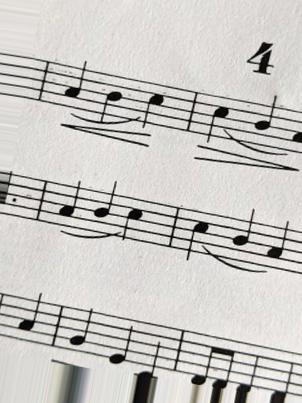note: (63, 303, 99, 362), (227, 206, 259, 268), (249, 93, 281, 151), (104, 315, 137, 368), (262, 220, 291, 279), (91, 177, 119, 236), (182, 208, 213, 261), (139, 80, 170, 131), (60, 58, 88, 114), (13, 291, 43, 343), (204, 93, 234, 145), (95, 74, 126, 124), (56, 178, 81, 235), (120, 194, 146, 246)
